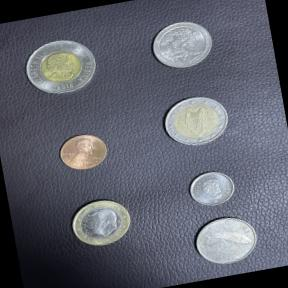coin: (18, 32, 104, 104), (156, 88, 237, 156), (62, 190, 138, 256), (144, 14, 221, 76), (189, 209, 264, 270), (53, 128, 114, 176), (182, 164, 240, 212)
